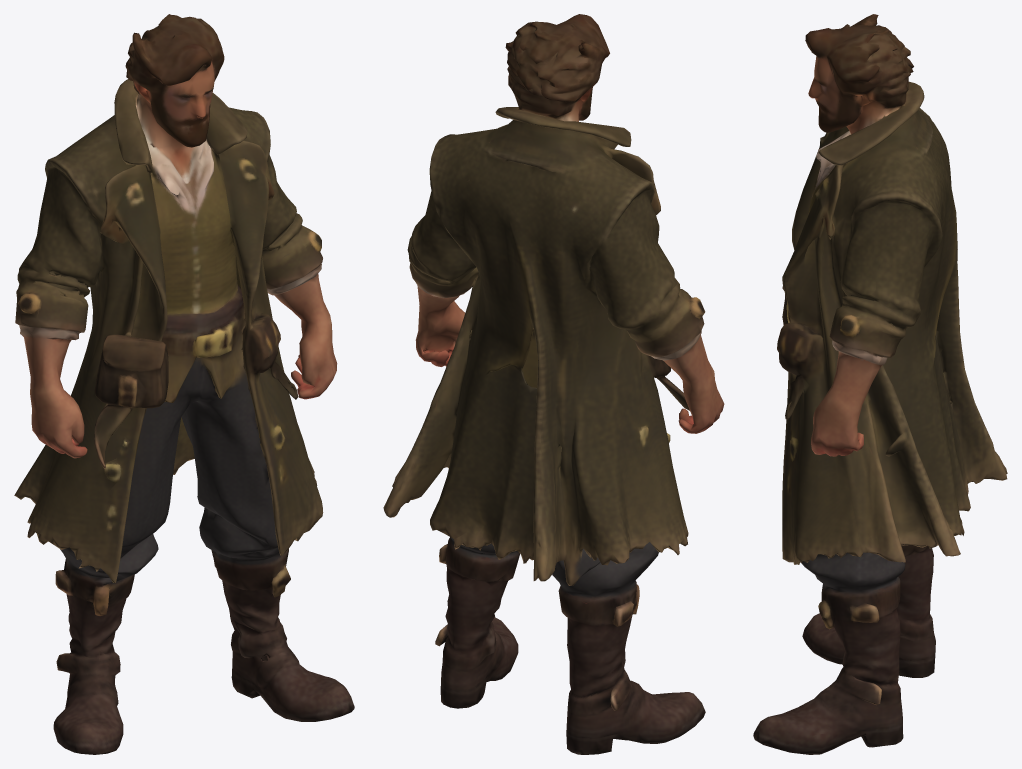
The model's file is dorian133.glb.
3 views of the same model, side by side, from view 1: azimuth 30°, elevation 25°; view 2: azimuth 150°, elevation 25°; view 3: azimuth 270°, elevation 25° (orthographic). The views are drawn at different scales.
Parts seen in each view (by area): view 1: geometry_0; view 2: geometry_0; view 3: geometry_0.
Part boxes in pixels (x1,y1,x2,y2): geometry_0: [14, 14, 354, 754]; geometry_0: [383, 14, 724, 754]; geometry_0: [753, 14, 1007, 754].
Size of the model in its own units: 0.4538 by 1 by 0.3437.
1 material, 1 textured.
